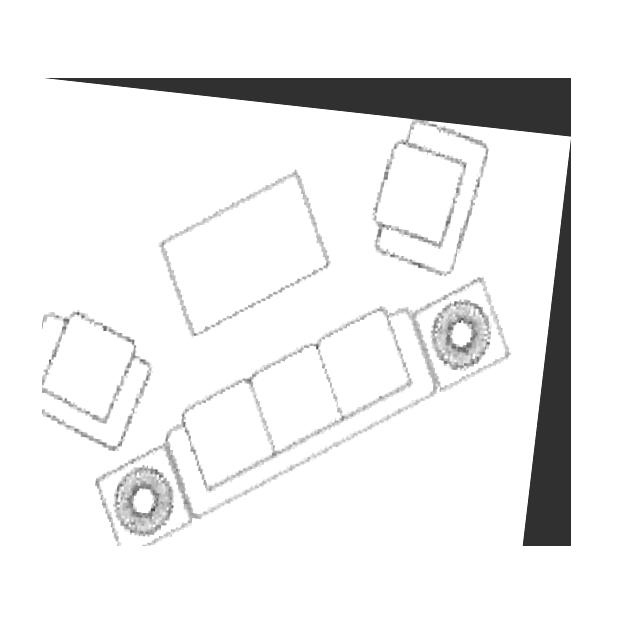sofa: (42, 78, 571, 546)
